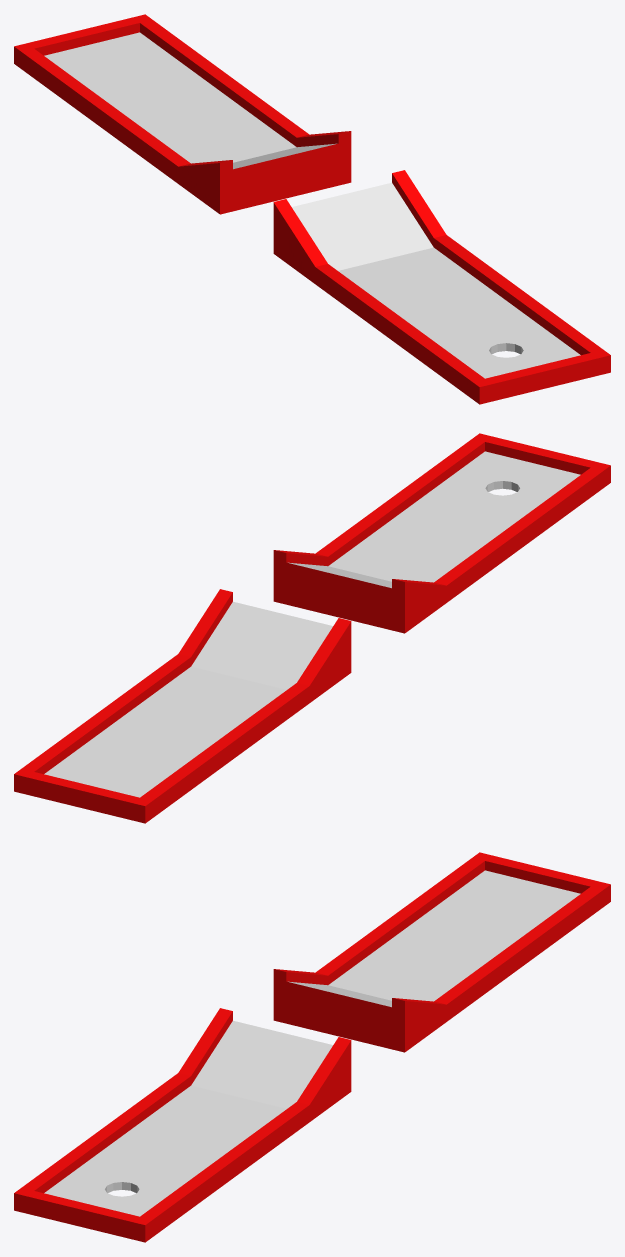
File: BahnF4.fbx
3 renders of one model, top to bottom at view 1: azimuth 30°, elevation 25°; view 2: azimuth 150°, elevation 25°; view 3: azimuth 330°, elevation 25°, orthographic.
Parts seen in each view (by area): view 1: BahnF4; view 2: BahnF4; view 3: BahnF4.
Part boxes in pixels (x1=…): BahnF4: x1=14, y1=14, x2=610, y2=404; BahnF4: x1=14, y1=433, x2=610, y2=823; BahnF4: x1=14, y1=852, x2=610, y2=1242.
Size of the model in its own units: 87 by 32.71 by 534.
